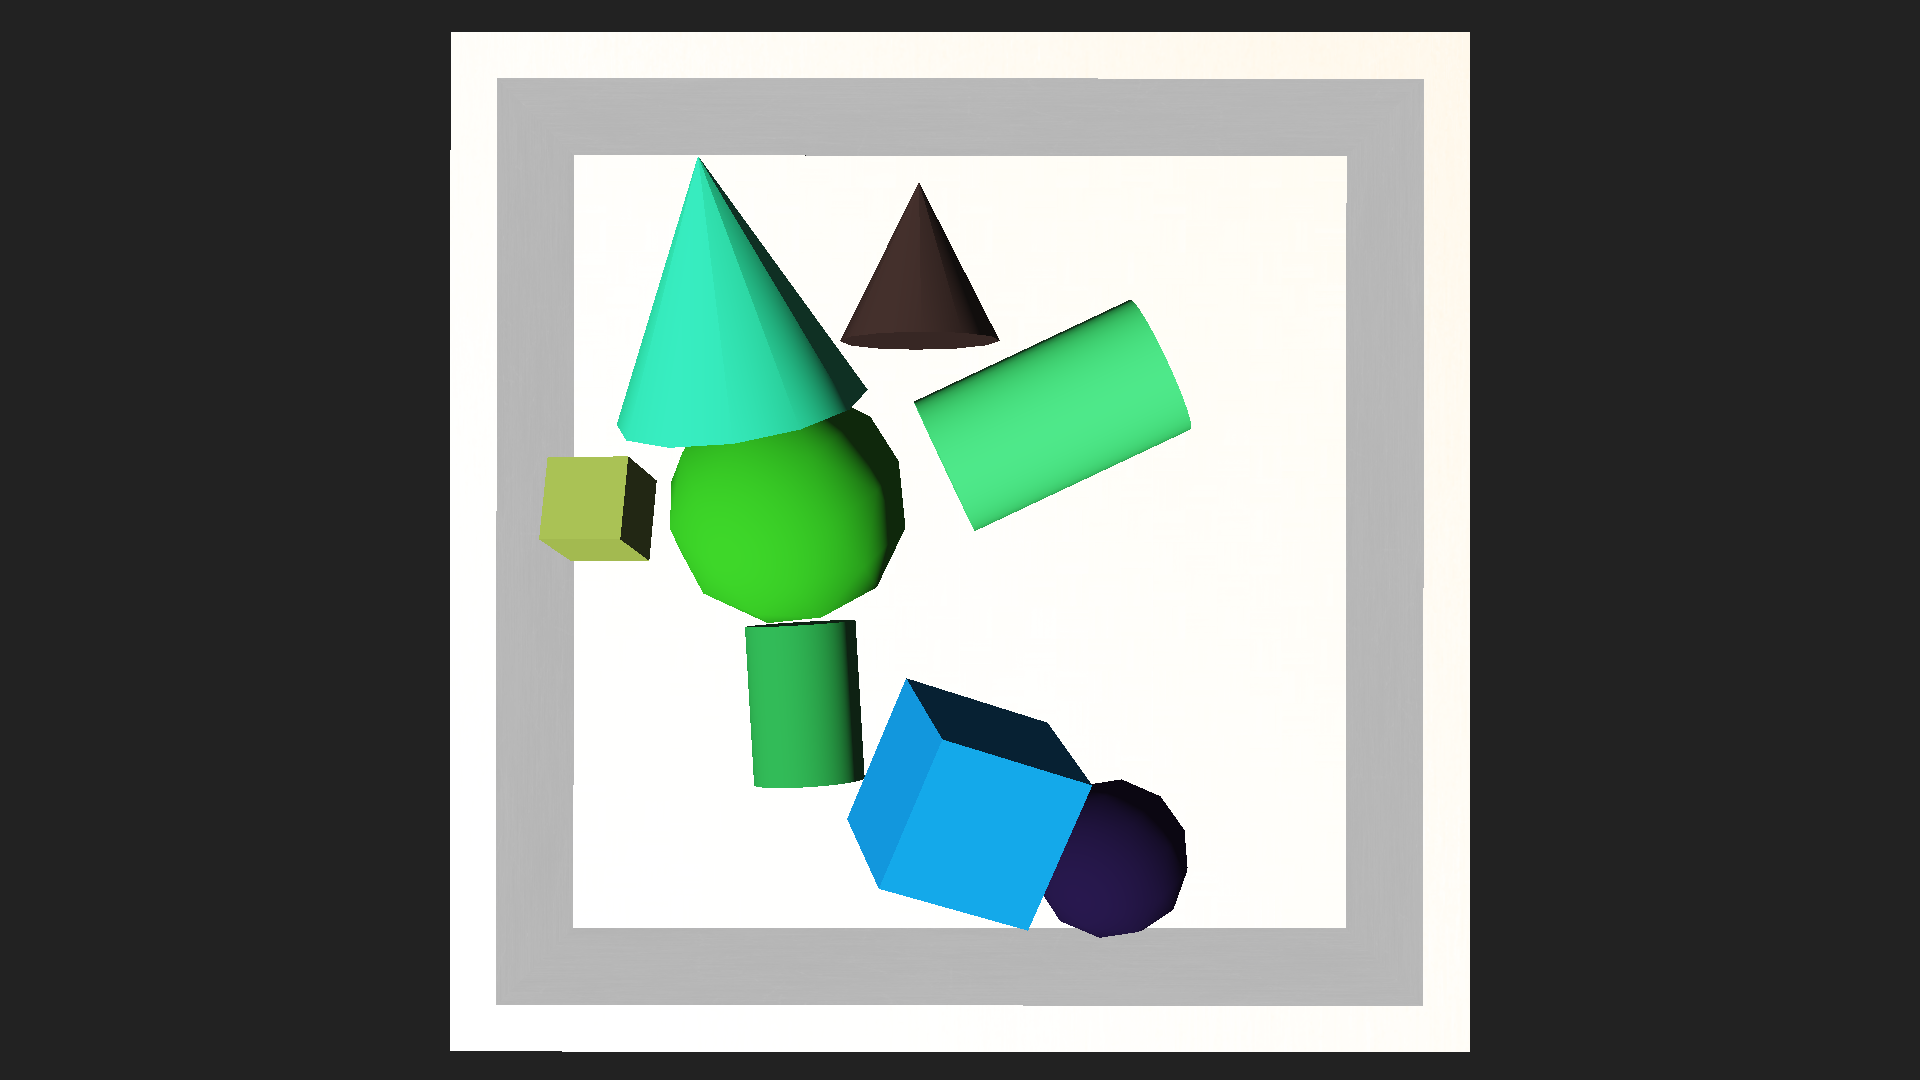3: (837, 673, 1095, 944), (535, 455, 658, 560)
cone: (911, 291, 1197, 531), (740, 617, 866, 790)
cylinder: (485, 69, 915, 462), (840, 166, 994, 349)
sphere: (666, 382, 909, 625), (1030, 777, 1189, 938)
